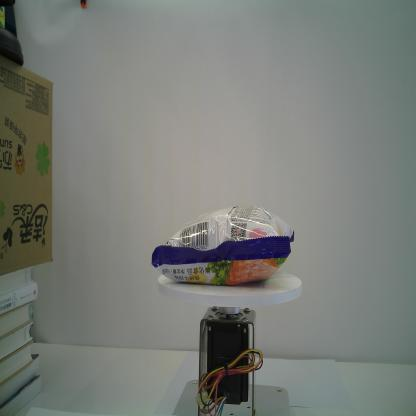Puffed Food: (151, 203, 294, 286)
